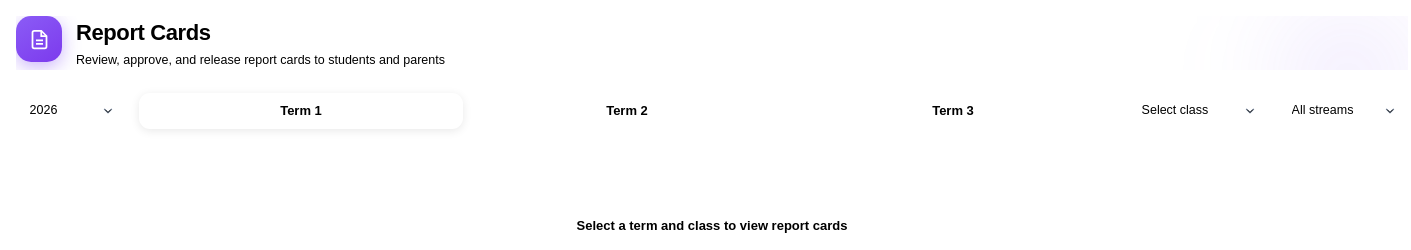
it: PrincipalReportCardsPage › shows loading spinner when cohort is ready and report cards are loading
Note: Select a class to make cohortReady true
Select "S.1" in the 2nd dropdown at (1198, 111), box x1=1128 y1=93 x2=1268 y2=129
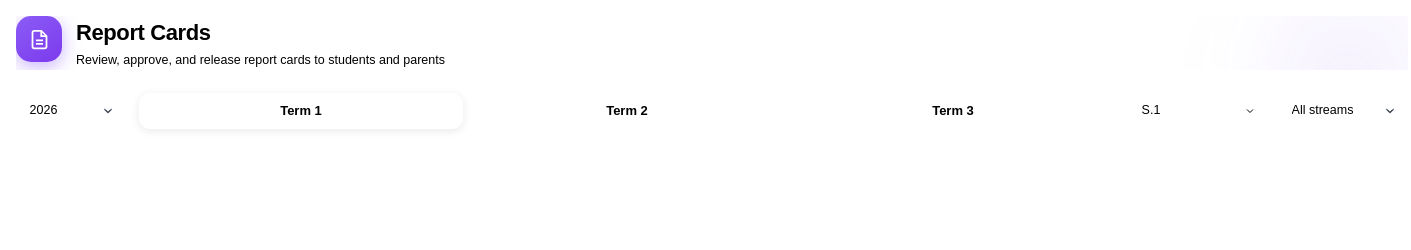
Expected: the text "Select a term and class" is gone
